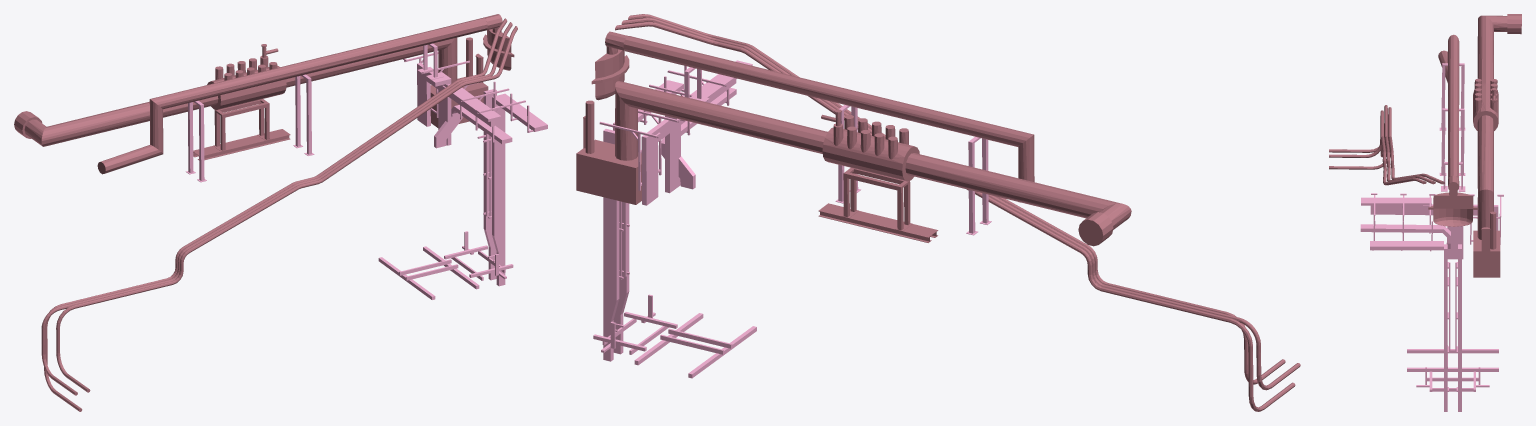
File: Serv-Z0-Sec5-cut2.glb
The picture shows the model from 3 angles, left to right: view 1: azimuth 30°, elevation 25°; view 2: azimuth 150°, elevation 25°; view 3: azimuth 270°, elevation 25°; orthographic projection. The views are drawn at different scales.
Visible parts, largest first — view 1: Serv-Z0-Sec5-Vent-cut2, Serv-Z0-Sec5-cut2, Serv-Z0-Sec5-Frames-cut2; view 2: Serv-Z0-Sec5-Vent-cut2, Serv-Z0-Sec5-cut2, Serv-Z0-Sec5-Frames-cut2; view 3: Serv-Z0-Sec5-Vent-cut2, Serv-Z0-Sec5-cut2, Serv-Z0-Sec5-Frames-cut2.
Boxes of the visible parts, <box> form: Serv-Z0-Sec5-Vent-cut2: <box>14,14,517,411</box>; Serv-Z0-Sec5-cut2: <box>417,62,547,286</box>; Serv-Z0-Sec5-Frames-cut2: <box>186,43,533,299</box>; Serv-Z0-Sec5-Vent-cut2: <box>576,14,1300,411</box>; Serv-Z0-Sec5-cut2: <box>603,60,752,361</box>; Serv-Z0-Sec5-Frames-cut2: <box>593,65,991,378</box>; Serv-Z0-Sec5-Vent-cut2: <box>1329,14,1521,277</box>; Serv-Z0-Sec5-cut2: <box>1360,197,1498,411</box>; Serv-Z0-Sec5-Frames-cut2: <box>1371,63,1503,391</box>.
Bounding box in the file's own units: 15.45 × 8.03 × 6.01.
